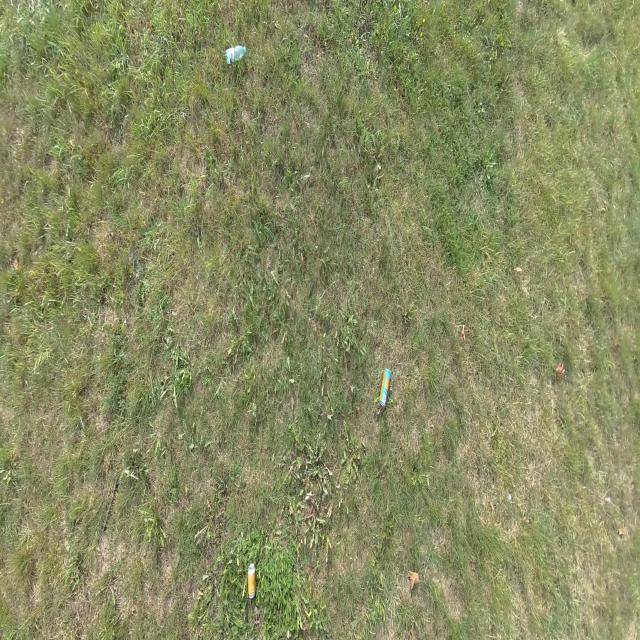rubbish: (378, 366, 392, 409), (226, 40, 247, 66), (247, 564, 256, 598)
